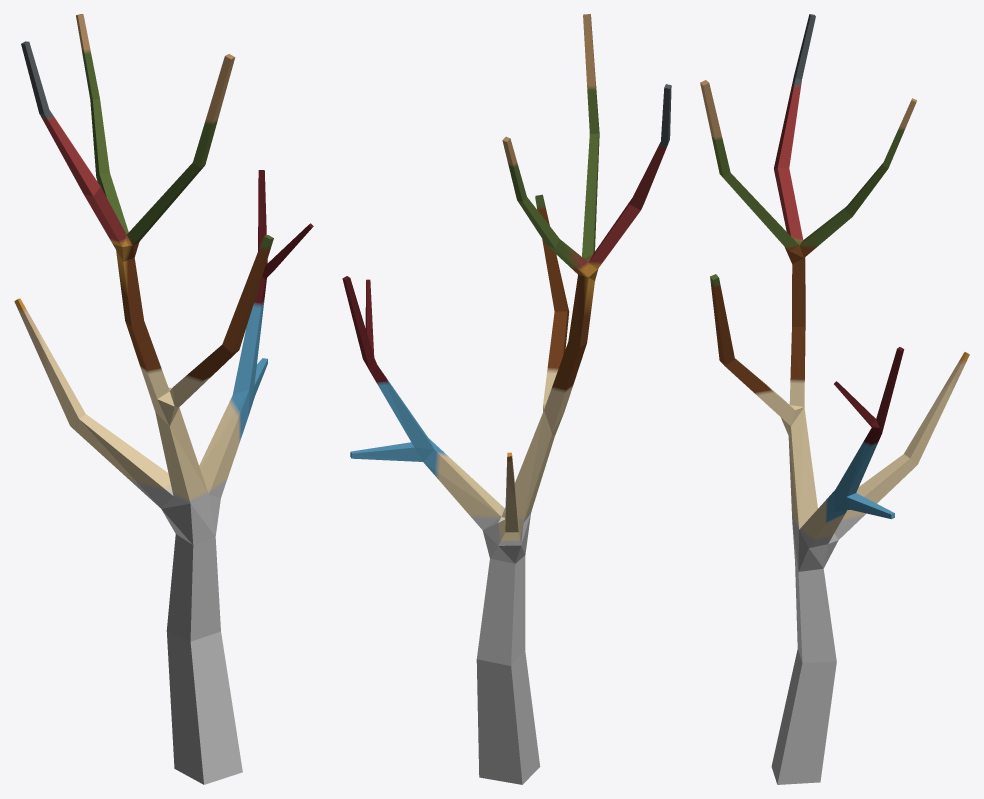
The model's file is Tree_32.fbx.
3 renders of one model, left to right at view 1: azimuth 30°, elevation 25°; view 2: azimuth 150°, elevation 25°; view 3: azimuth 270°, elevation 25°, orthographic. The views are drawn at different scales.
Visible parts, largest first — view 1: Tree_32; view 2: Tree_32; view 3: Tree_32.
Boxes of the visible parts, <box> form: Tree_32: <box>14,14,313,784</box>; Tree_32: <box>342,14,671,784</box>; Tree_32: <box>700,14,969,784</box>.
Bounding box in the file's own units: 1.88 × 4.5 × 1.61.
